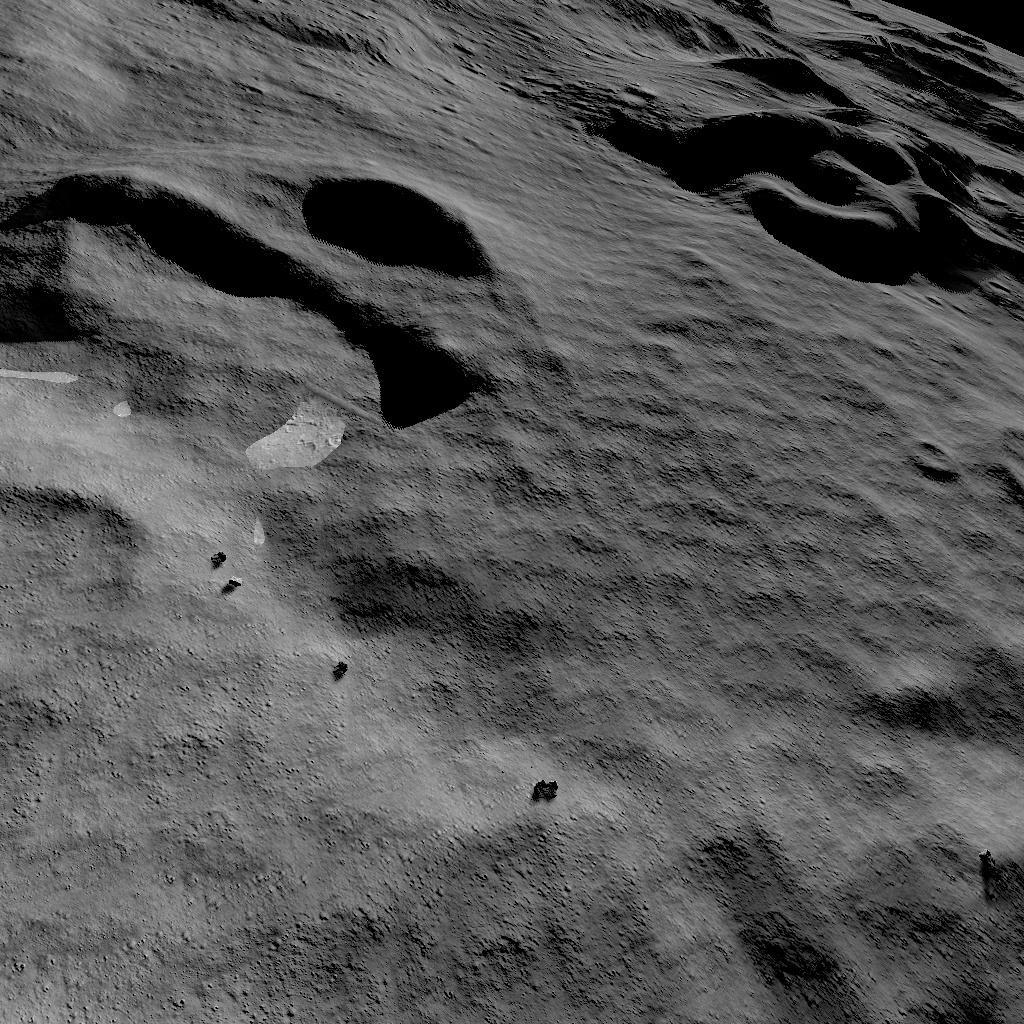Crater: (0, 192, 516, 450), (579, 38, 1024, 326), (0, 475, 151, 737), (881, 452, 1024, 534)
Plan surface: (561, 368, 869, 1024), (0, 792, 506, 1024)
